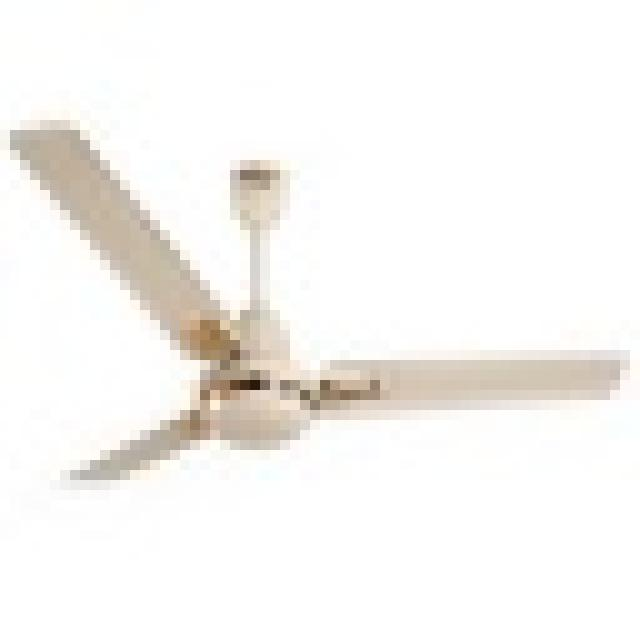Bulb: (19, 105, 640, 530)
